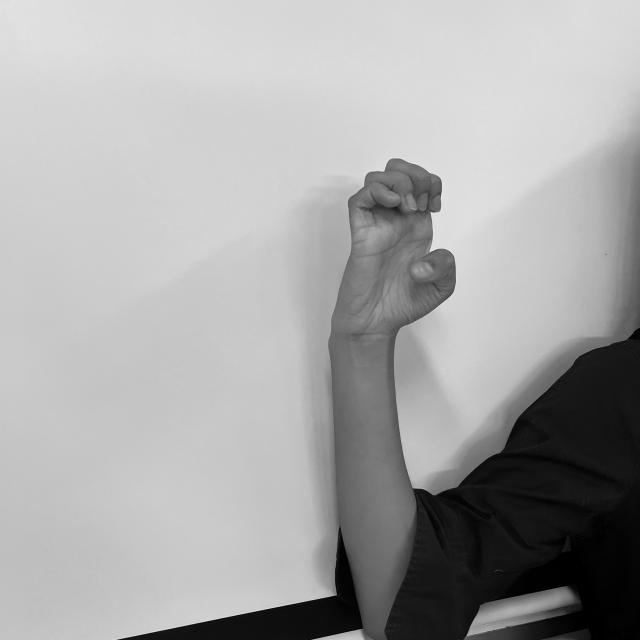Letra E: (327, 150, 461, 342)
